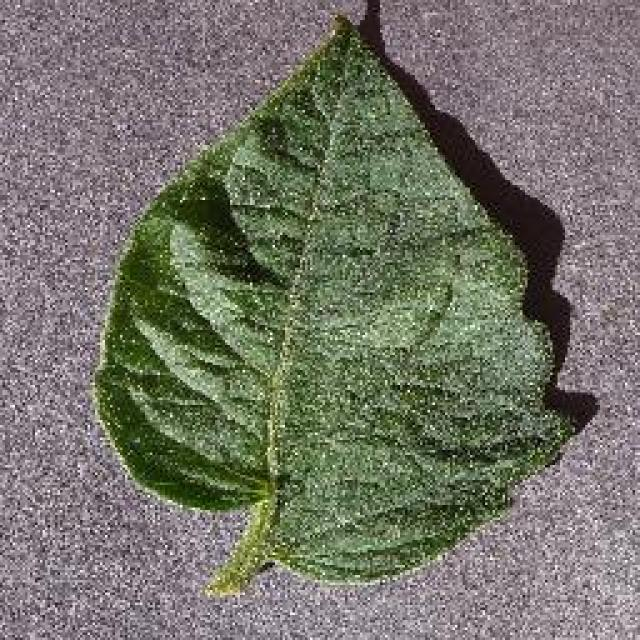Tomato healthy leaf: (94, 25, 568, 590)
